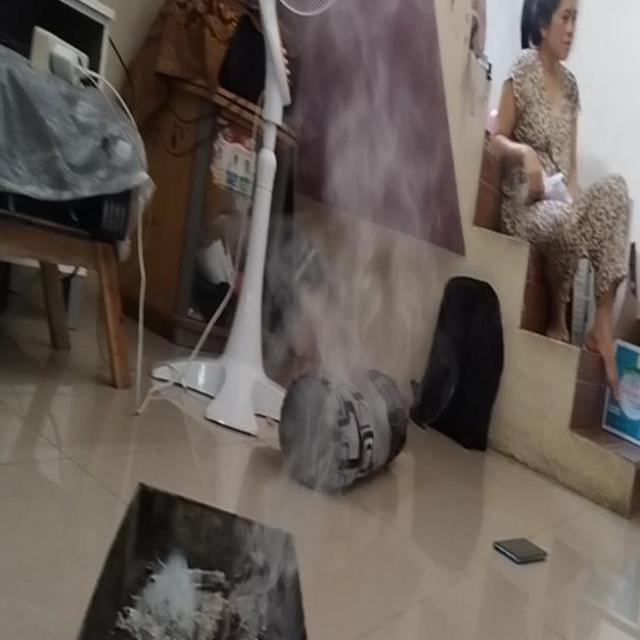fire: (306, 0, 434, 394)
